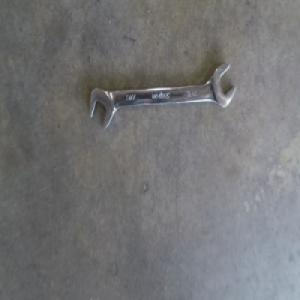Wrench: (88, 63, 235, 131)
